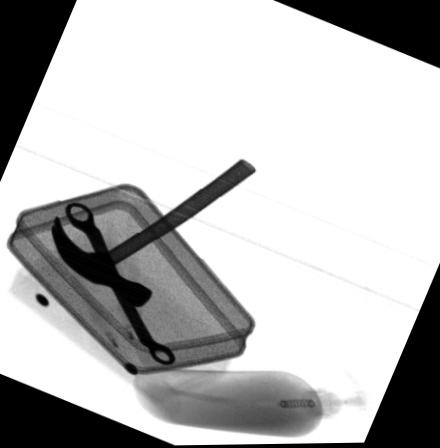Hammer: (50, 158, 255, 307)
Wrench: (64, 201, 173, 364)
